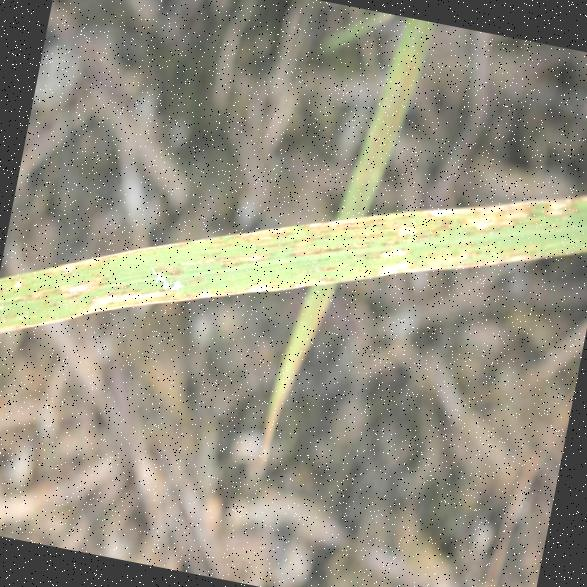Bacteria_Leaf_Blight: (85, 104, 576, 376)
